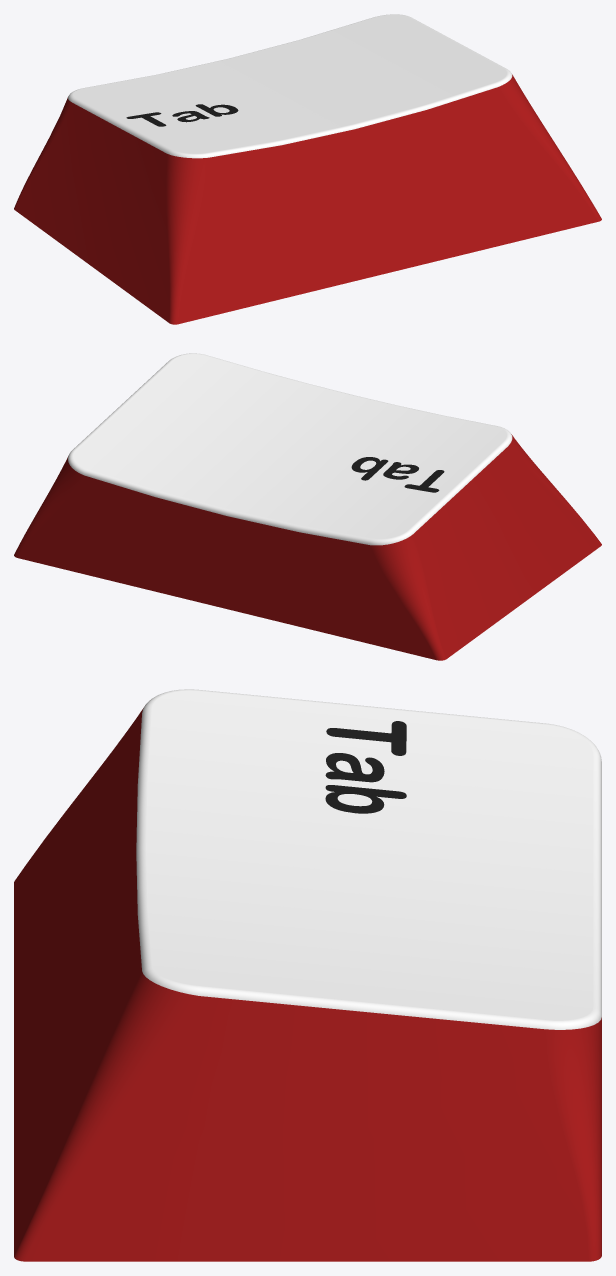
The model's file is Tab Text 150.fbx.
3 renders of one model, top to bottom at view 1: azimuth 30°, elevation 25°; view 2: azimuth 150°, elevation 25°; view 3: azimuth 270°, elevation 25°, orthographic. The views are drawn at different scales.
Visible parts, largest first — view 1: Body1; view 2: Body1; view 3: Body1.
Part boxes in pixels (<box>): Body1: <box>14,14,601,324</box>; Body1: <box>14,353,601,660</box>; Body1: <box>14,689,601,1261</box>.
Bounding box in the file's own units: 27.81 × 7.89 × 18.
